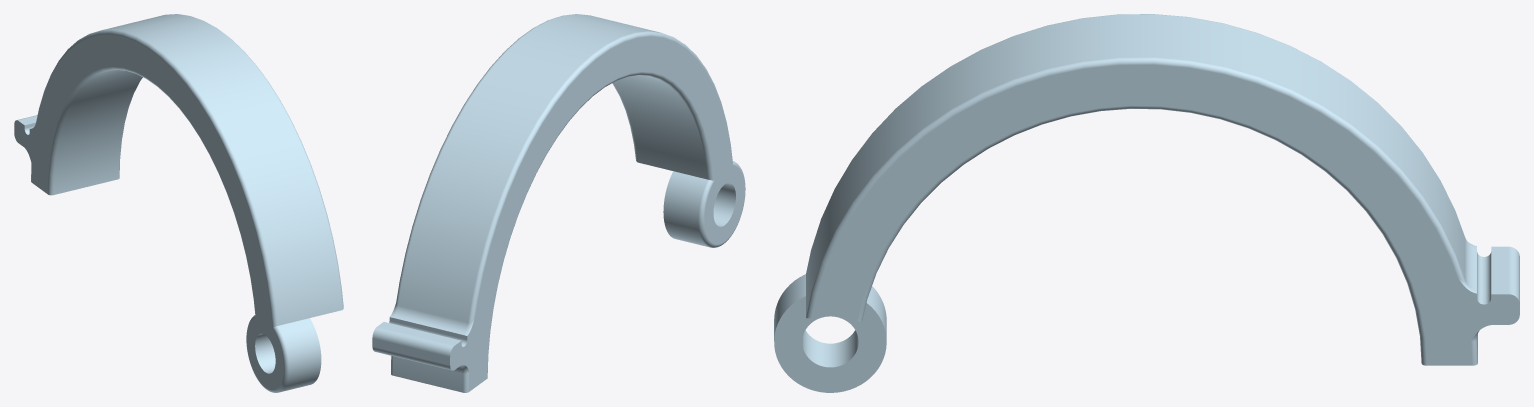
The model's file is clamp-top-v2.gltf.
3 views of the same model, side by side, from view 1: azimuth 30°, elevation 25°; view 2: azimuth 150°, elevation 25°; view 3: azimuth 270°, elevation 25° (orthographic). The views are drawn at different scales.
Parts seen in each view (by area): view 1: clamp top; view 2: clamp top; view 3: clamp top.
Boxes of the visible parts, box(x1,y1,x2,y2) form: clamp top: box(14, 14, 343, 392); clamp top: box(372, 14, 745, 392); clamp top: box(774, 14, 1519, 392).
Bounding box in the file's own units: 0.0127 × 0.0444 × 0.0841.
